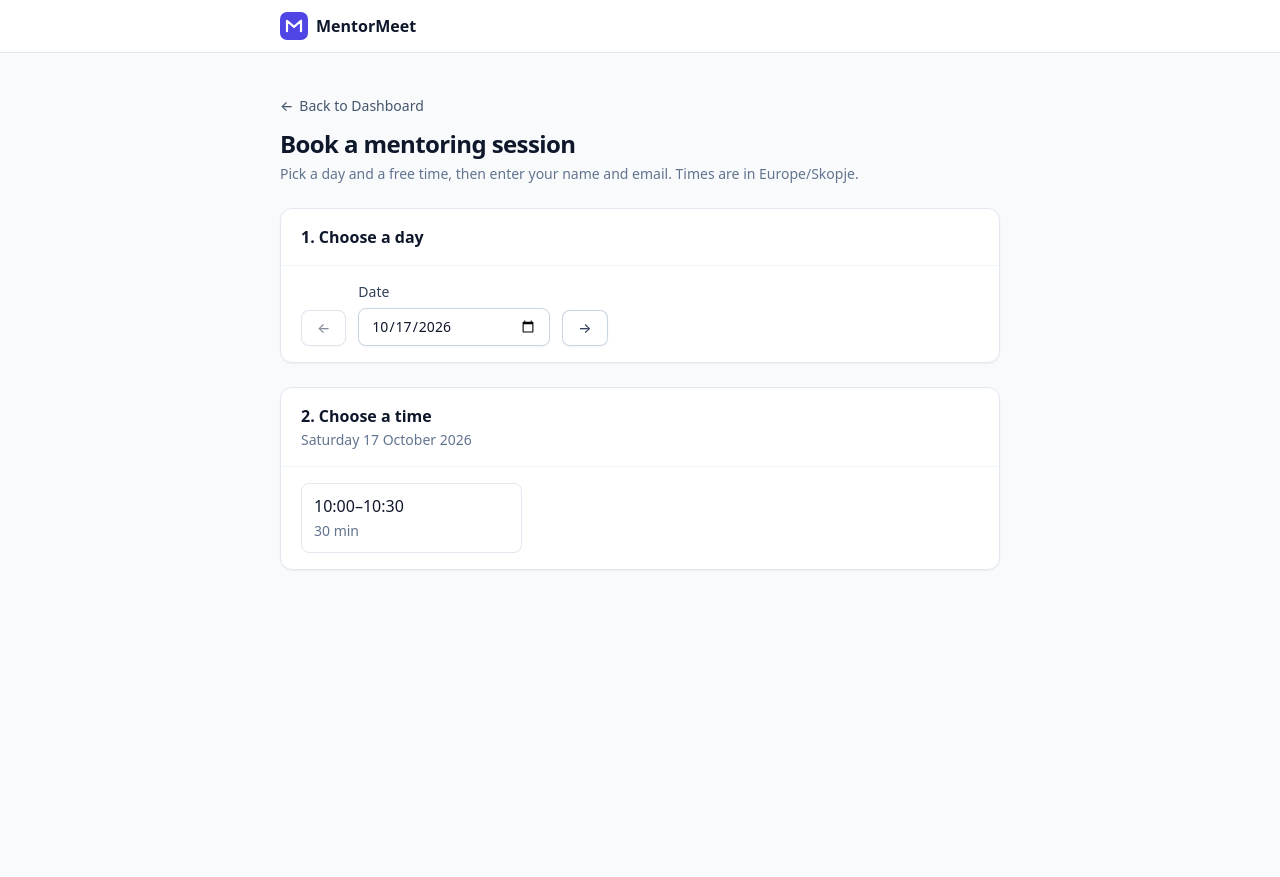
Test: BookingPage › shows a clear message when booking is rate limited and keeps the selection
Click the button "10:00–10:30 30 min".
click(411, 518)  # box [301,483,522,553]
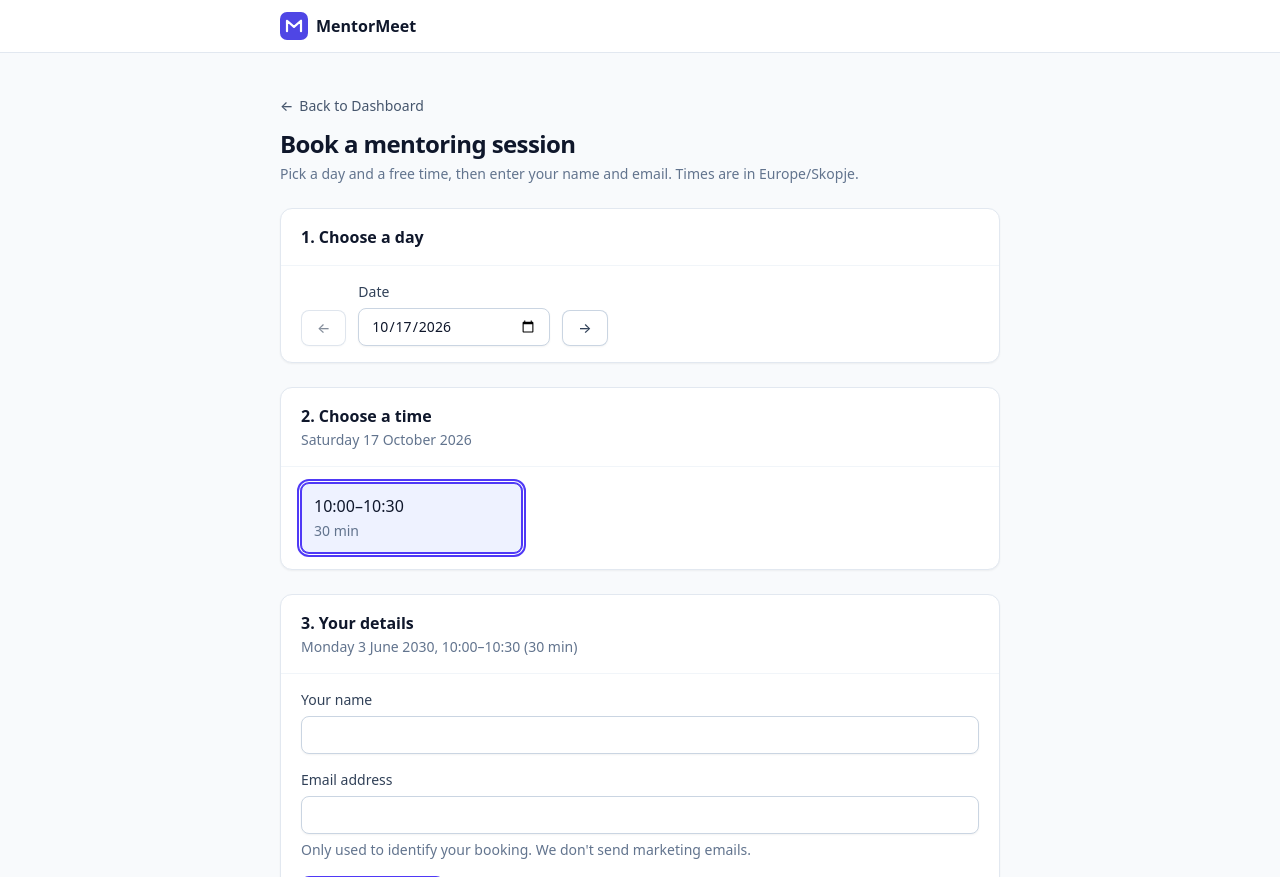
Type "Ana Petrova" into the field labelled "Your name".
click(640, 735); type("Ana Petrova")  # box [301,716,979,754]
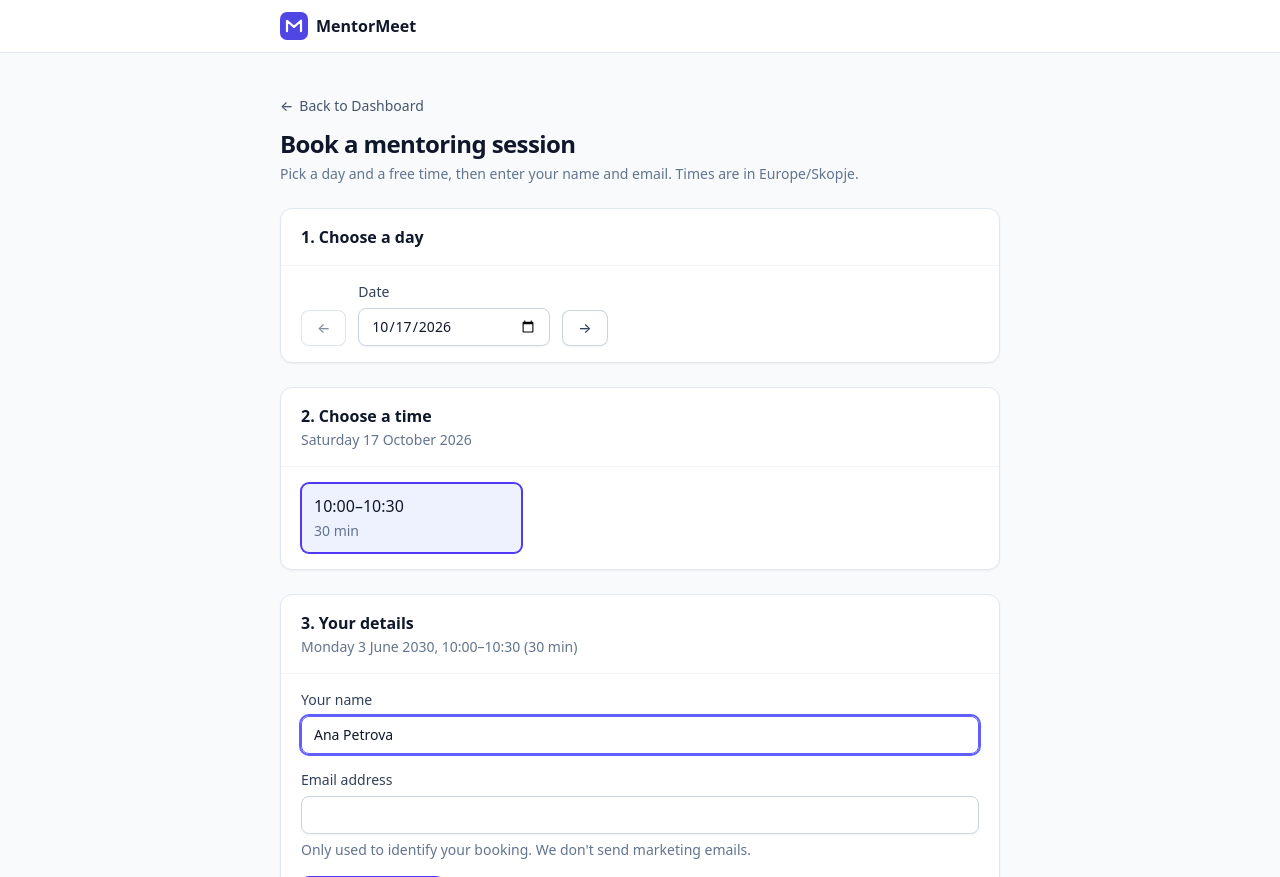
Type "ana@example.com" into the field labelled "Email address".
click(640, 815); type("ana@example.com")  # box [301,796,979,834]
(page scrolled)
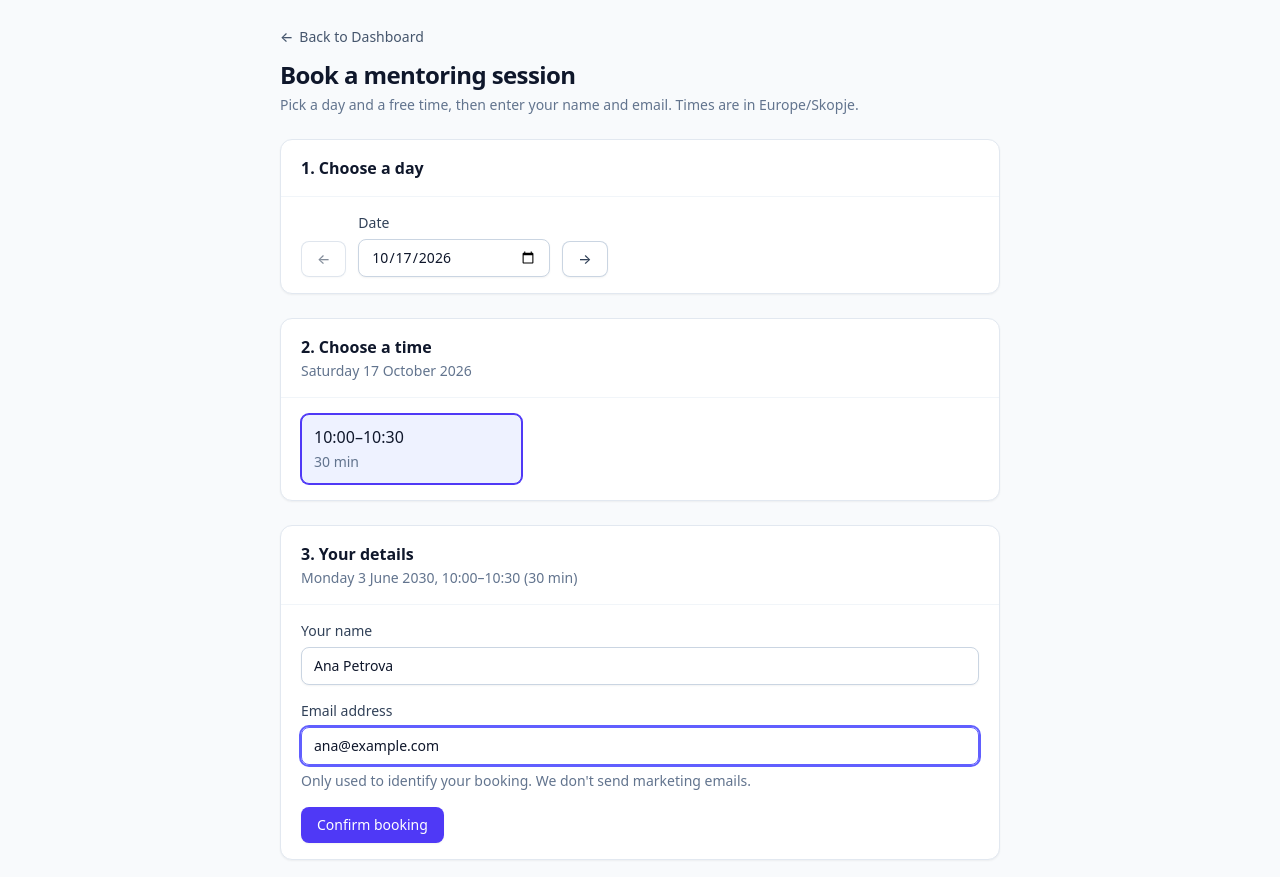
Click the button "Confirm booking".
click(372, 825)  # box [301,807,444,843]
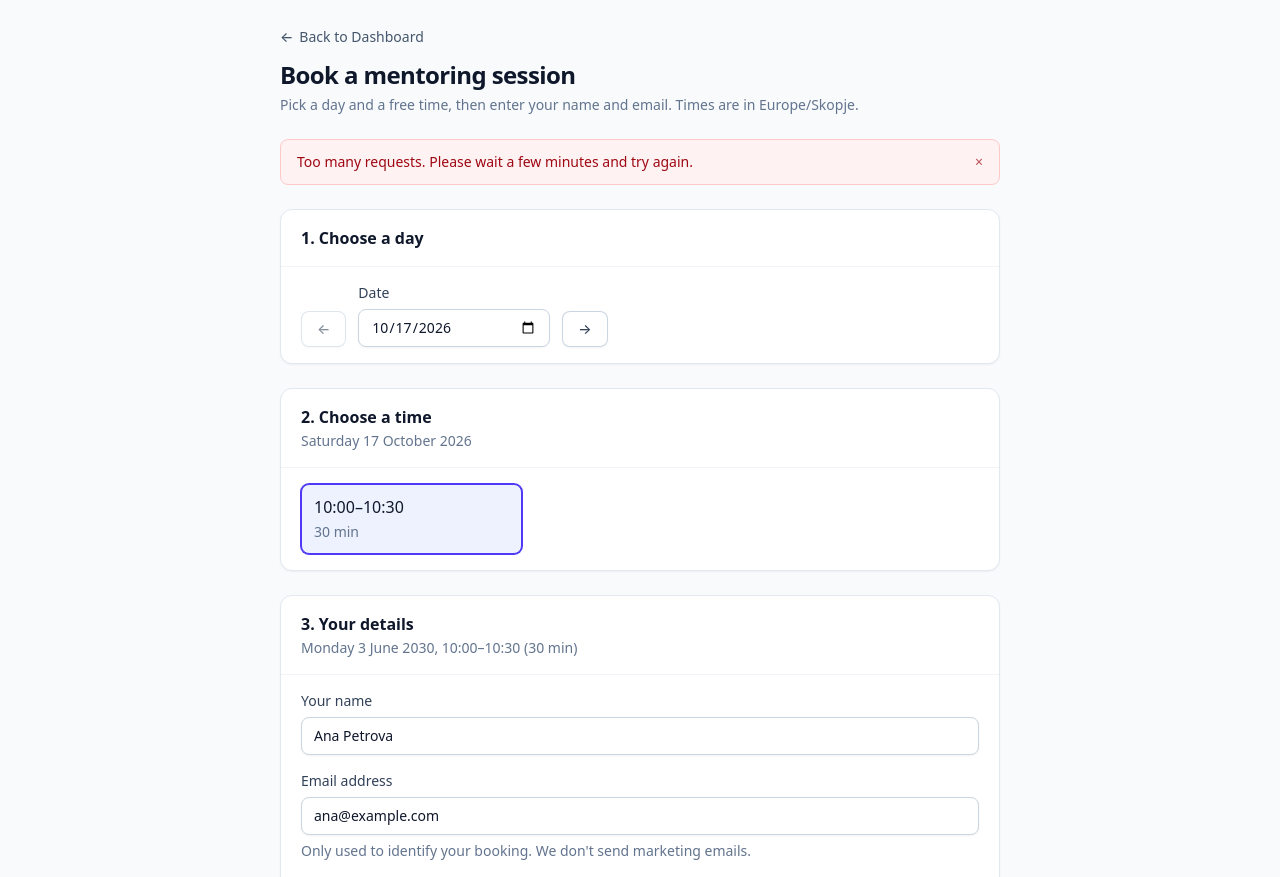
Result: the text "Too many requests. Please wait a few minutes and try again." is shown at [297,152,693,171]
